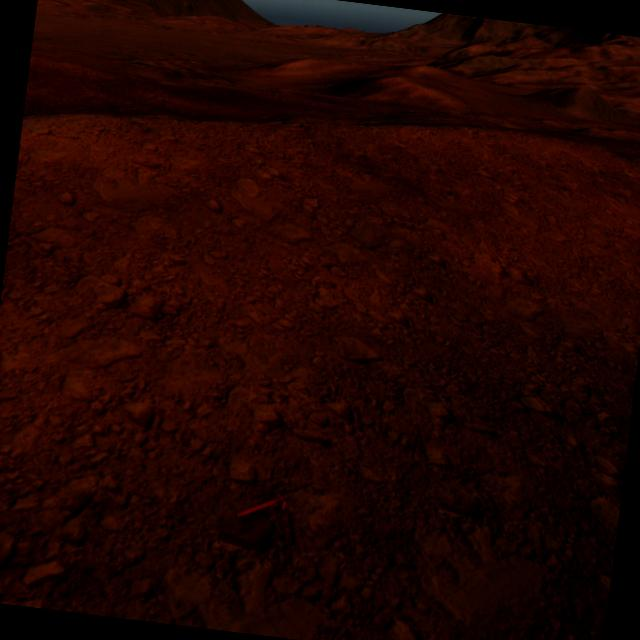newhammer: (234, 485, 286, 524)
